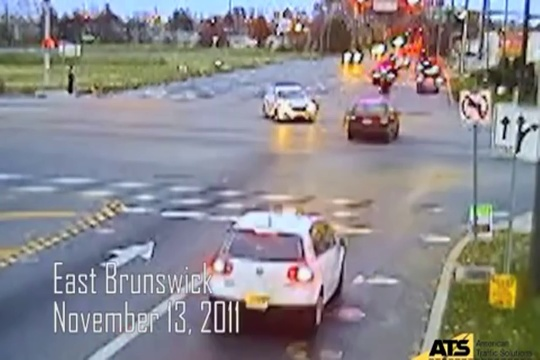car: (189, 195, 354, 328), (335, 91, 400, 147), (264, 76, 319, 127), (415, 65, 450, 101), (366, 60, 402, 89), (340, 45, 363, 61)
